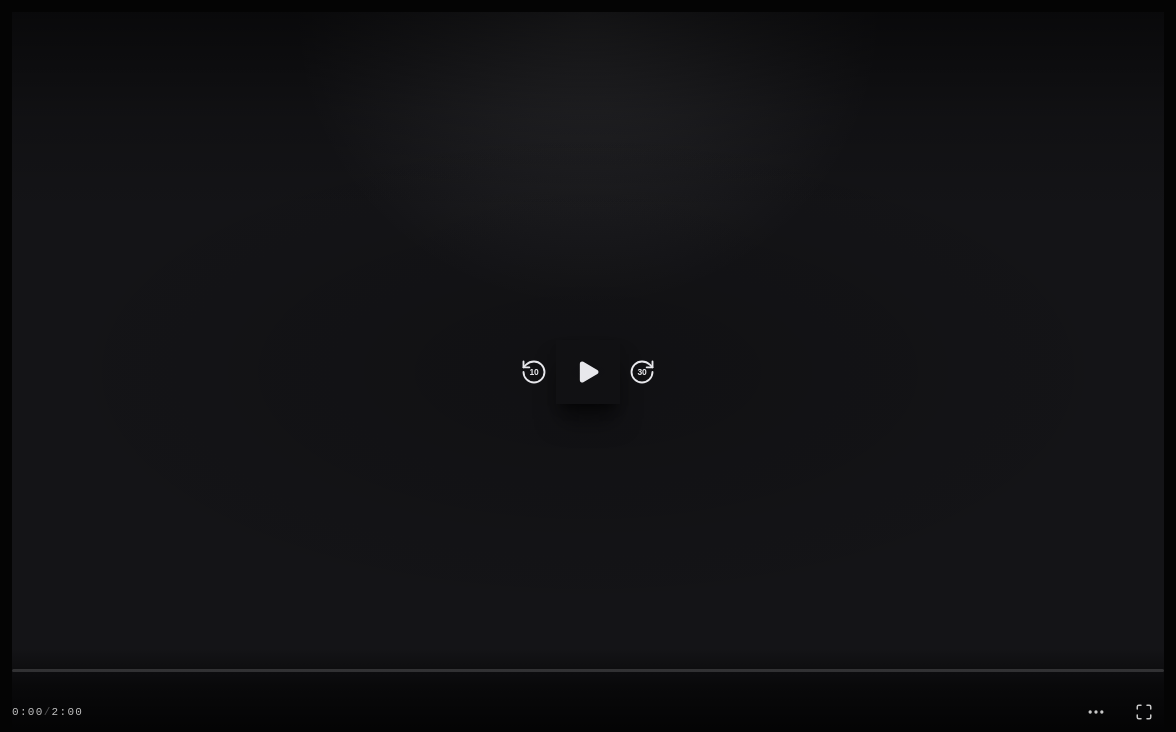
Test: PlayerControls › toggles video fit from the compact overflow menu
Click the button named "More player options" at (1096, 712), box [1076,692,1116,731]
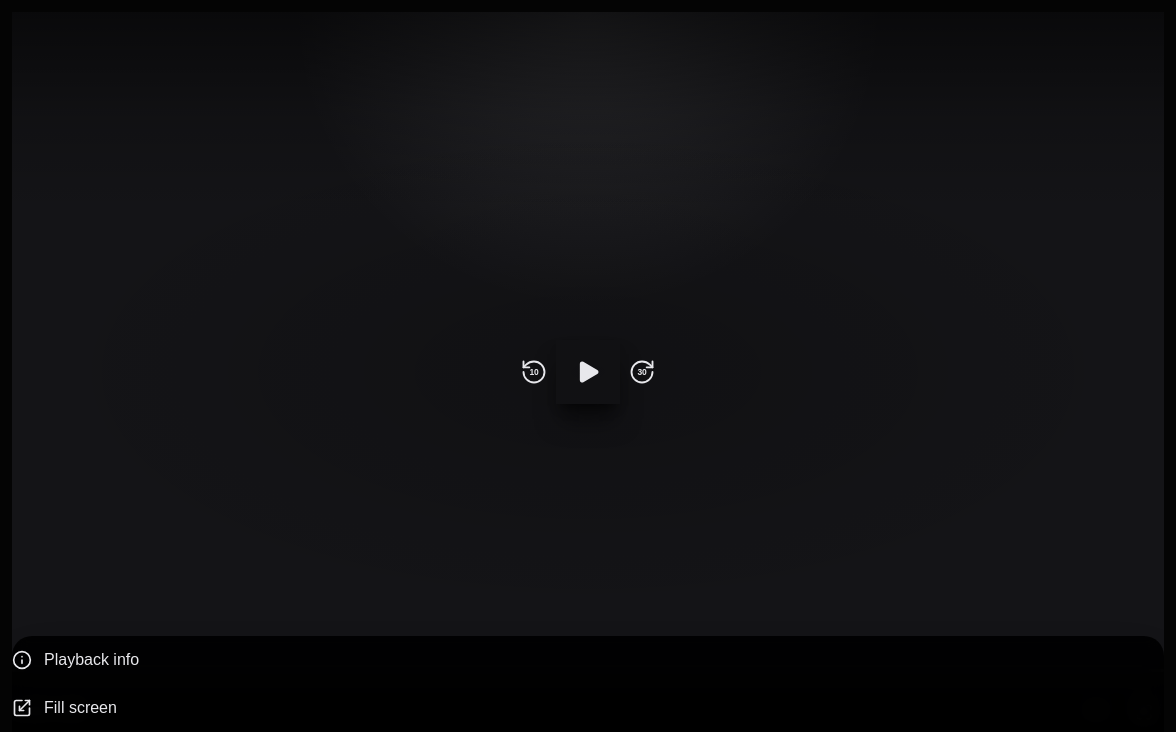
Click the menu item "Fill screen" at (80, 708), box [12,684,1164,731]
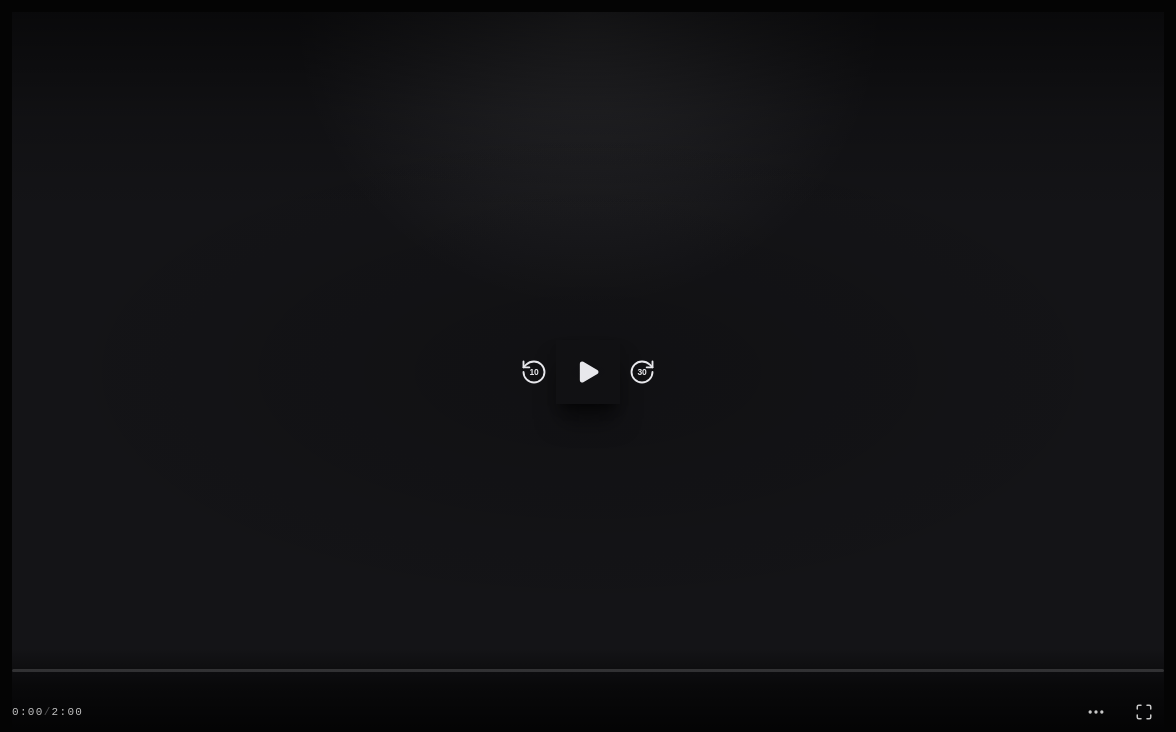
Result: the menu is gone
